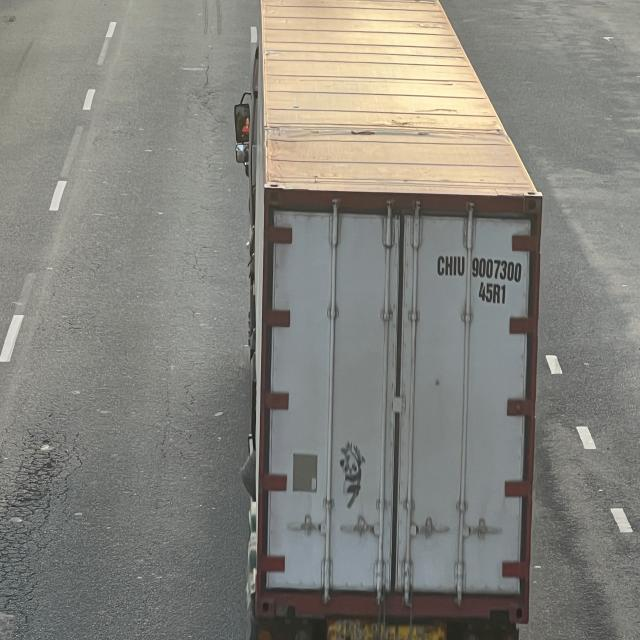container: (232, 0, 556, 633)
